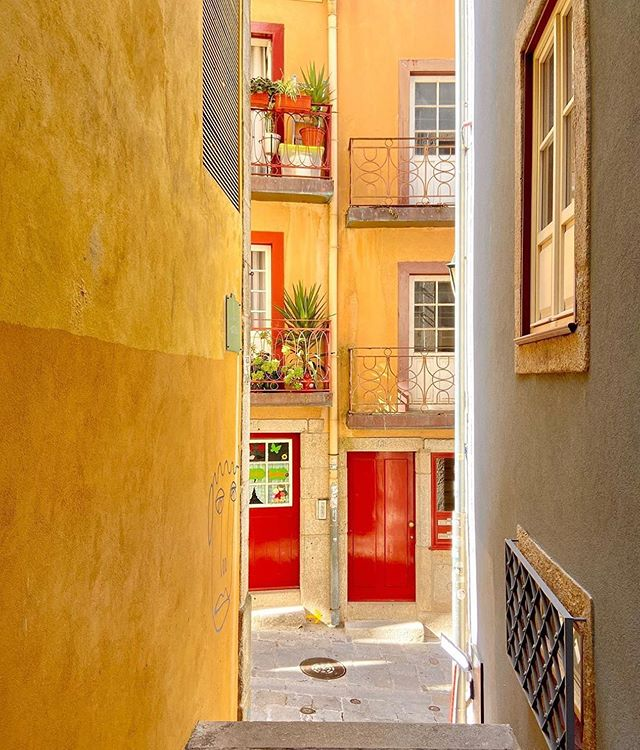building: (1, 1, 249, 704), (232, 1, 464, 632), (470, 1, 640, 710)
door: (346, 447, 426, 606), (255, 412, 316, 593)
